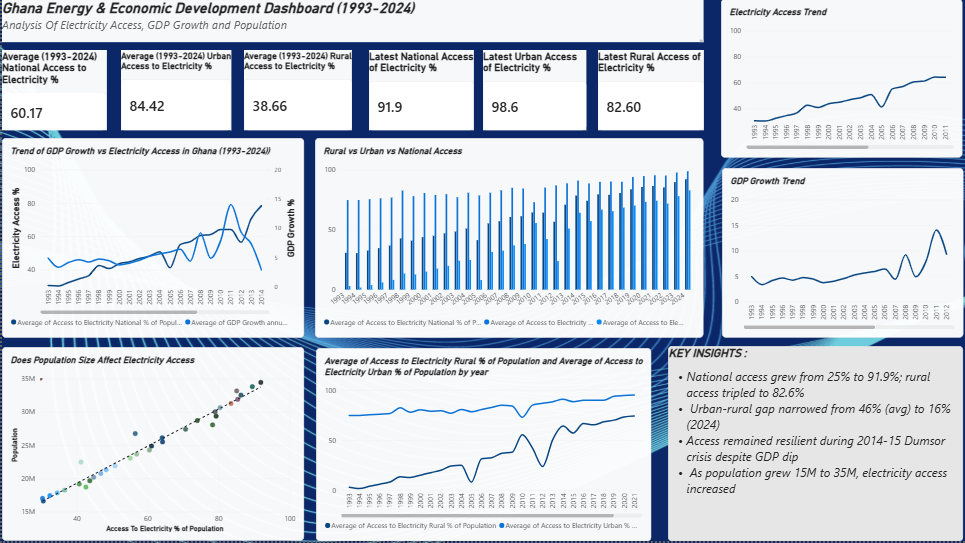

What the dashboard file says about the page in this screenshot:
{"tool":"powerbi","page":{"name":"Page 1","canvas":[1920,1080],"ordinal":0},"visuals":[{"type":"scatterChart","title":"Does Population Size Affect Electricity Access","fields":{"Series":["pop ele gdp.year"],"X":["pop ele gdp.acc_to_ele_pct_pop"],"Y":["Sum(pop ele gdp.pop_tot)"]},"box":[0,693.7,602,386],"z":0},{"type":"lineChart","title":"Electricity Access Trend","fields":{"Category":["pop ele gdp.year"],"Y":["Avg(pop ele gdp.acc_to_ele_pct_pop)"]},"box":[1433.4,0,480.7,316.1],"z":1000},{"type":"clusteredColumnChart","title":"Rural vs Urban vs National Access","fields":{"Category":["pop ele gdp.year"],"Y":["Avg(pop ele gdp.acc_to_ele_pct_pop)","Avg(pop ele gdp.acc_to ele_urb_pct_pop)","Avg(pop ele gdp.acc_to ele_ru_pct_pop)"]},"box":[623.4,276.6,774,398],"z":2000},{"type":"lineChart","title":"Trend of GDP Growth vs Electricity Access in Ghana (1993-2024))","fields":{"Category":["pop ele gdp.year"],"Y":["Avg(pop ele gdp.acc_to_ele_pct_pop)"],"Y2":["Avg(pop ele gdp.gdp_growth_pct)"]},"box":[0,276.6,602,398],"z":3000},{"type":"textbox","title":"Ghana Energy & Economic Development Dashboard (1993-2024)","box":[0,0,1398.3,85.6],"z":4000},{"type":"textbox","title":"  KEY INSIGHTS :","box":[1328,691.5,588.3,388.5],"z":5000},{"type":"cardVisual","title":"Average (1993-2024) Urban Access to Electricity %","fields":{"Data":["Avg(pop ele gdp.acc_to ele_urb_pct_pop)"]},"box":[237.1,101,219.5,160.2],"z":6000},{"type":"cardVisual","title":"Average (1993-2024) National Access to Electricity %","fields":{"Data":["Avg(pop ele gdp.acc_to_ele_pct_pop)"]},"box":[0,101,208.5,160.2],"z":7000},{"type":"cardVisual","title":"Average (1993-2024) Rural Access to Electricity %","fields":{"Data":["Avg(pop ele gdp.acc_to ele_ru_pct_pop)"]},"box":[482.9,101,215.1,160.2],"z":8000},{"type":"lineChart","title":"GDP Growth Trend","fields":{"Category":["pop ele gdp.year"],"Y":["Avg(pop ele gdp.gdp_growth_pct)"]},"box":[1435.6,335.9,480.7,338],"z":9000},{"type":"cardVisual","title":"Latest National Access of Electricity %","fields":{"Data":["Avg(pop ele gdp.acc_to_ele_pct_pop)"]},"box":[731,101,208.5,160.2],"z":10000},{"type":"cardVisual","title":"Latest Urban Access of Electricity %","fields":{"Data":["Avg(pop ele gdp.acc_to ele_urb_pct_pop)"]},"box":[959.3,101,206.3,160.2],"z":11000},{"type":"cardVisual","title":"Latest Rural Access of Electricity %","fields":{"Data":["Avg(pop ele gdp.acc_to ele_ru_pct_pop)"]},"box":[1187.6,101,210.7,160.2],"z":12000},{"type":"lineChart","fields":{"Category":["pop ele gdp.year"],"Y":["Avg(pop ele gdp.Access to Electricity Rural % of Population)","Avg(pop ele gdp.Access to Electricity Urban % of Population)"]},"box":[625.6,695.9,667.5,385],"z":13000}]}

Visuals, with their boxes in screenshot pixels (x1, y1, x2, y2), scaled from the page's 1920x1080 canvas onto the 965x543 screenshot:
"Does Population Size Affect Electricity Access" scatterChart: crop(0, 349, 303, 542)
"Electricity Access Trend" lineChart: crop(720, 0, 962, 159)
"Rural vs Urban vs National Access" clusteredColumnChart: crop(313, 139, 702, 339)
"Trend of GDP Growth vs Electricity Access in Ghana (1993-2024))" lineChart: crop(0, 139, 303, 339)
"Ghana Energy & Economic Development Dashboard (1993-2024)" textbox: crop(0, 0, 703, 43)
"  KEY INSIGHTS :" textbox: crop(667, 348, 963, 542)
"Average (1993-2024) Urban Access to Electricity %" cardVisual: crop(119, 51, 229, 131)
"Average (1993-2024) National Access to Electricity %" cardVisual: crop(0, 51, 105, 131)
"Average (1993-2024) Rural Access to Electricity %" cardVisual: crop(243, 51, 351, 131)
"GDP Growth Trend" lineChart: crop(722, 169, 963, 339)
"Latest National Access of Electricity %" cardVisual: crop(367, 51, 472, 131)
"Latest Urban Access of Electricity %" cardVisual: crop(482, 51, 586, 131)
"Latest Rural Access of Electricity %" cardVisual: crop(597, 51, 703, 131)
lineChart - pop ele gdp.year x Avg(pop ele gdp.Access to Electricity Rural % of Population): crop(314, 350, 650, 542)
